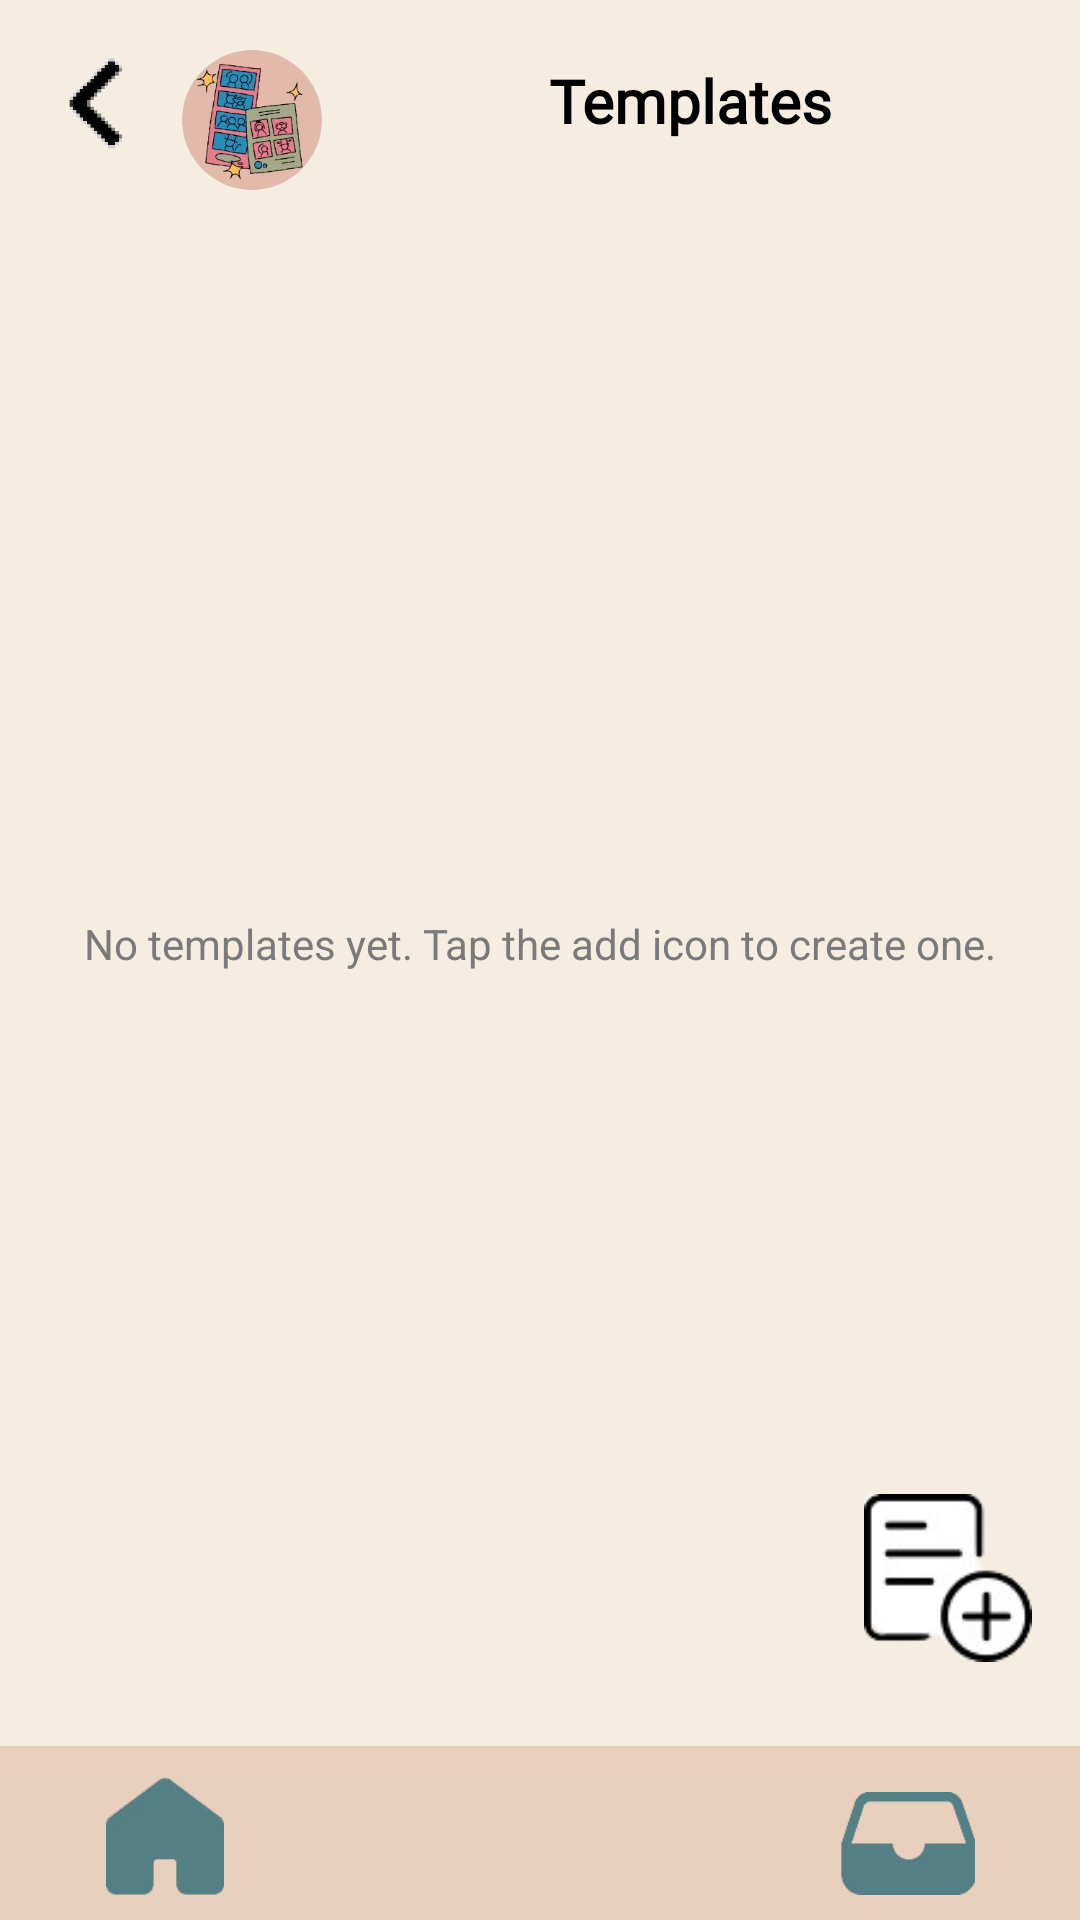

Icon click points for this 1080 x 1920 phone screenshot, format (x,y):
Archive: (908,1843)
Create Template: (948,1578)
Home: (165,1836)
